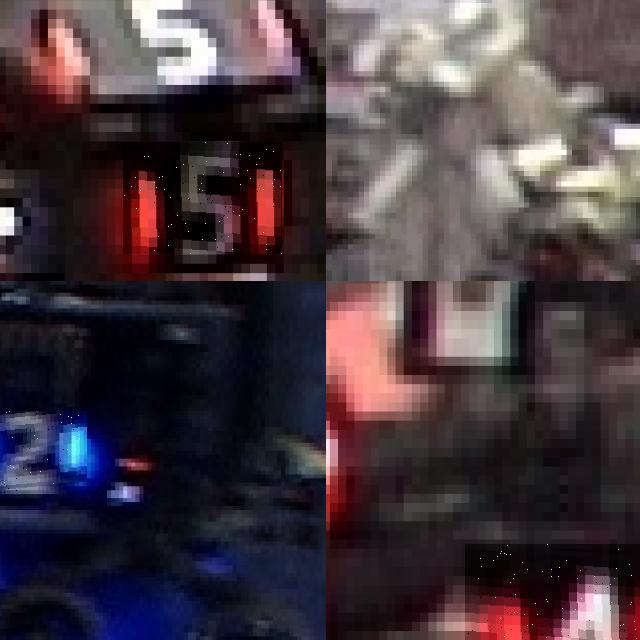B2: (0, 411, 86, 494)
R4: (465, 544, 640, 640)
R5: (124, 142, 284, 254)
